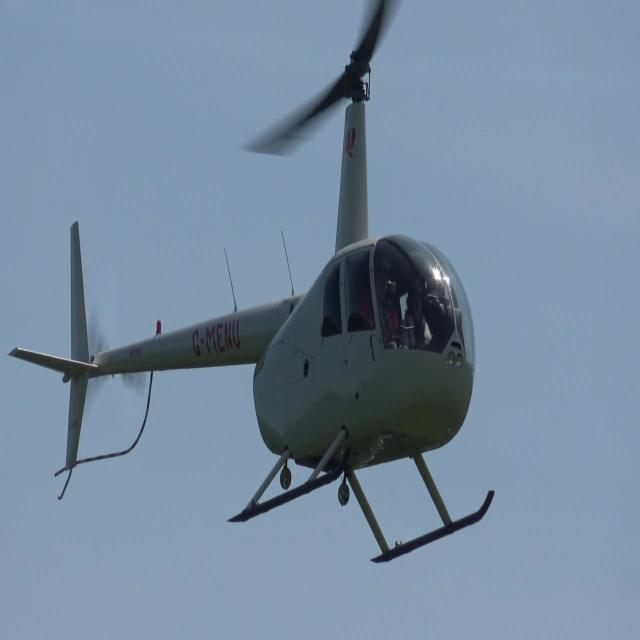CIV_HELO: (6, 51, 497, 567)
